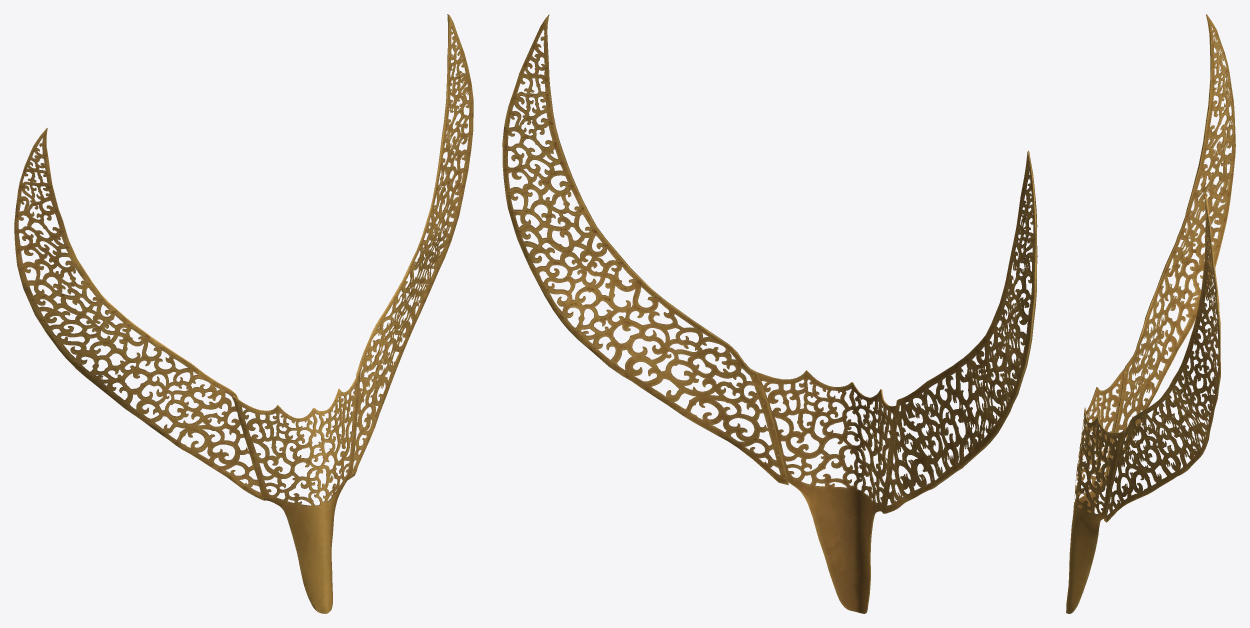
The model's file is gwansik.glb.
3 views of the same model, side by side, from view 1: azimuth 30°, elevation 25°; view 2: azimuth 150°, elevation 25°; view 3: azimuth 270°, elevation 25° (orthographic). The views are drawn at different scales.
Visible parts, largest first — view 1: SM_ShillaGoldDeco_02_Cage.004; view 2: SM_ShillaGoldDeco_02_Cage.004; view 3: SM_ShillaGoldDeco_02_Cage.004.
Boxes of the visible parts, box(x1,y1,x2,y2) form: SM_ShillaGoldDeco_02_Cage.004: box(14, 14, 473, 613); SM_ShillaGoldDeco_02_Cage.004: box(502, 14, 1037, 613); SM_ShillaGoldDeco_02_Cage.004: box(1066, 14, 1235, 613).
Bounding box in the file's own units: 0.4013 × 0.4261 × 0.1285.
1 material, 1 textured.
